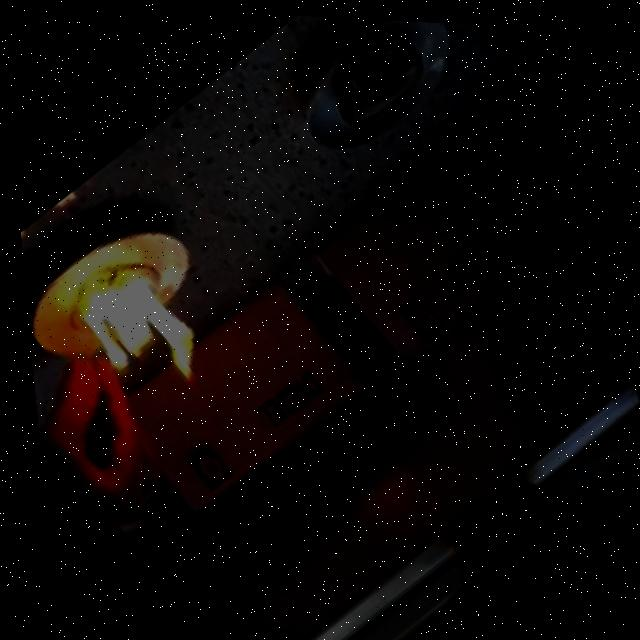Fire: (47, 246, 223, 423)
